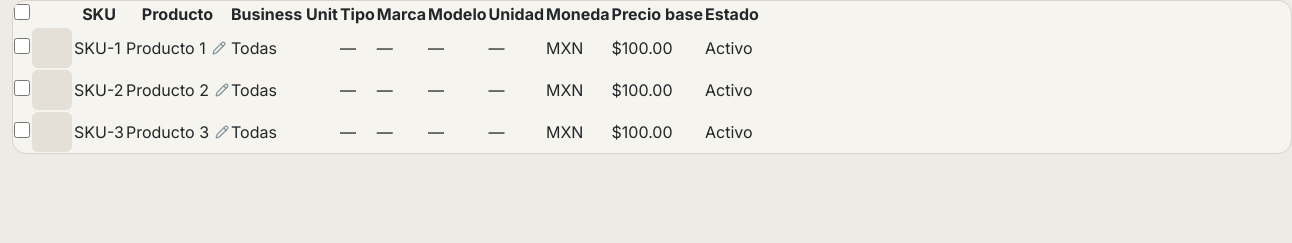
Scenario: CatalogSelectionTable (ajuste de cierre — selección múltiple / eliminar del catálogo) › 'Seleccionar todos los visibles' marca EXACTAMENTE los productos recibidos (nunca más)
The image size is (1292, 243).
Click the checkbox named "Seleccionar todos los visibles": (22, 12) [14, 4, 30, 20]
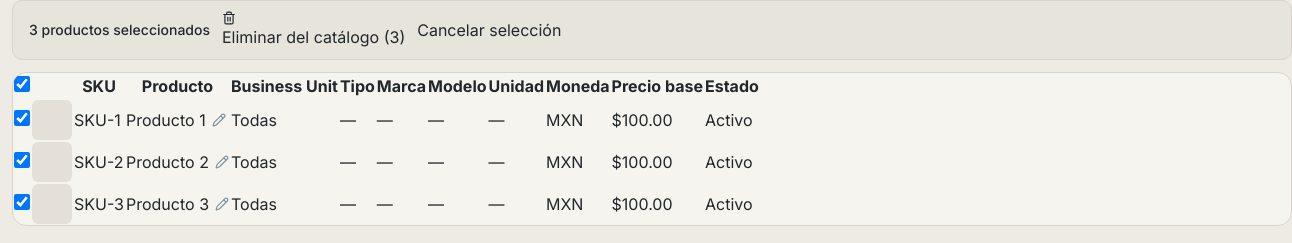
Expected: the text "3 productos seleccionados" is shown, [29, 20, 210, 40]
Expected: the checkbox named "Seleccionar SKU-1" is checked, [14, 110, 30, 126]
Expected: the checkbox named "Seleccionar SKU-2" is checked, [14, 152, 30, 168]
# Desmarcar el encabezado quita exactamente esos mismos ids, no otros.
Click the checkbox named "Seleccionar todos los visibles": (22, 84) [14, 76, 30, 92]
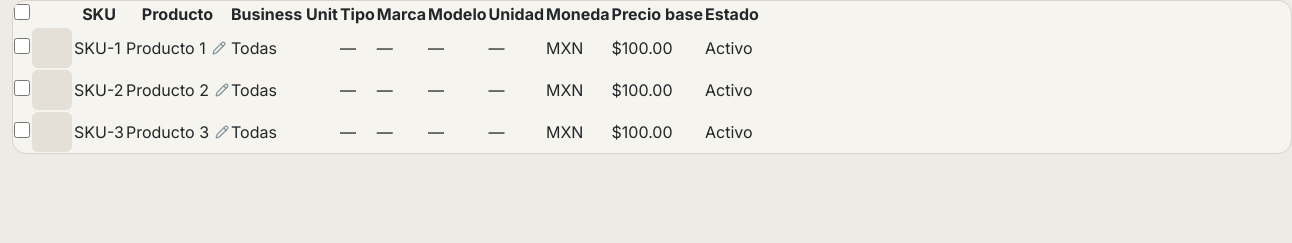
Expected: the text "seleccionado" is gone
